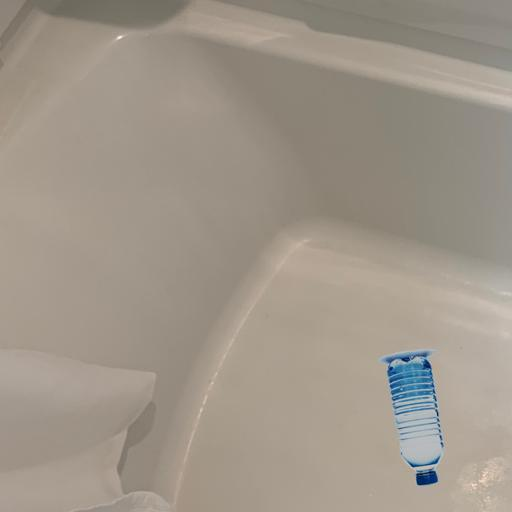bottle: (376, 340, 472, 490)
